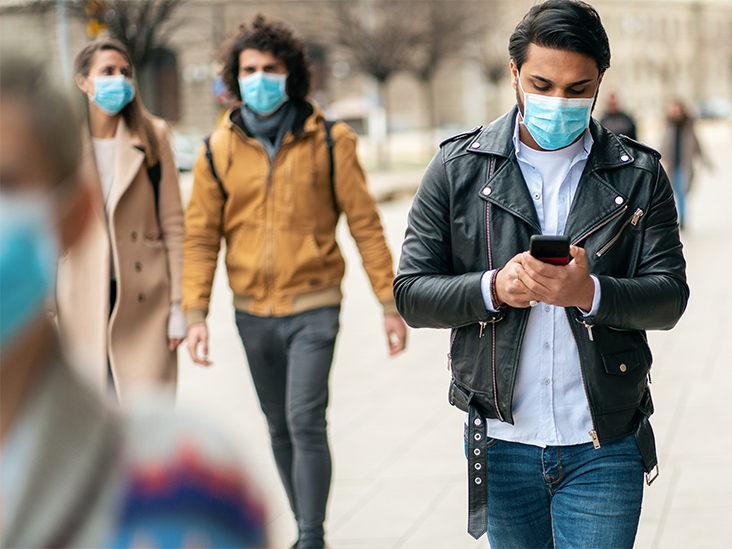with_mask: (519, 51, 592, 149), (239, 52, 284, 111), (87, 65, 120, 109)
